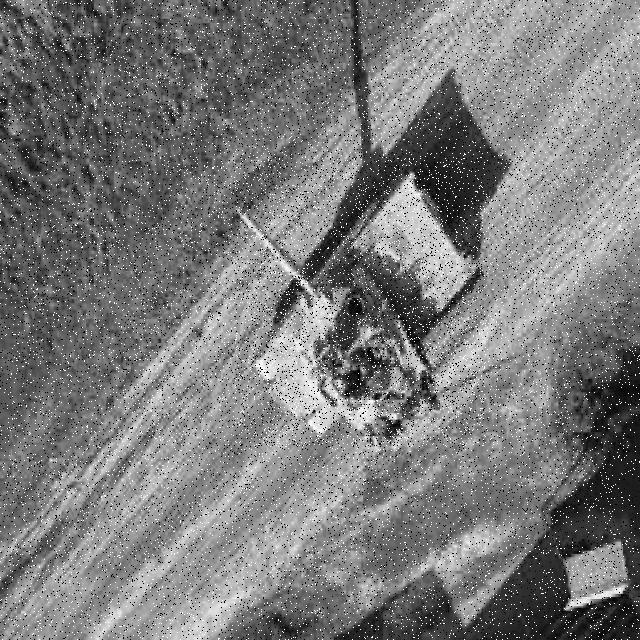MIL_MBT: (235, 157, 485, 447)
